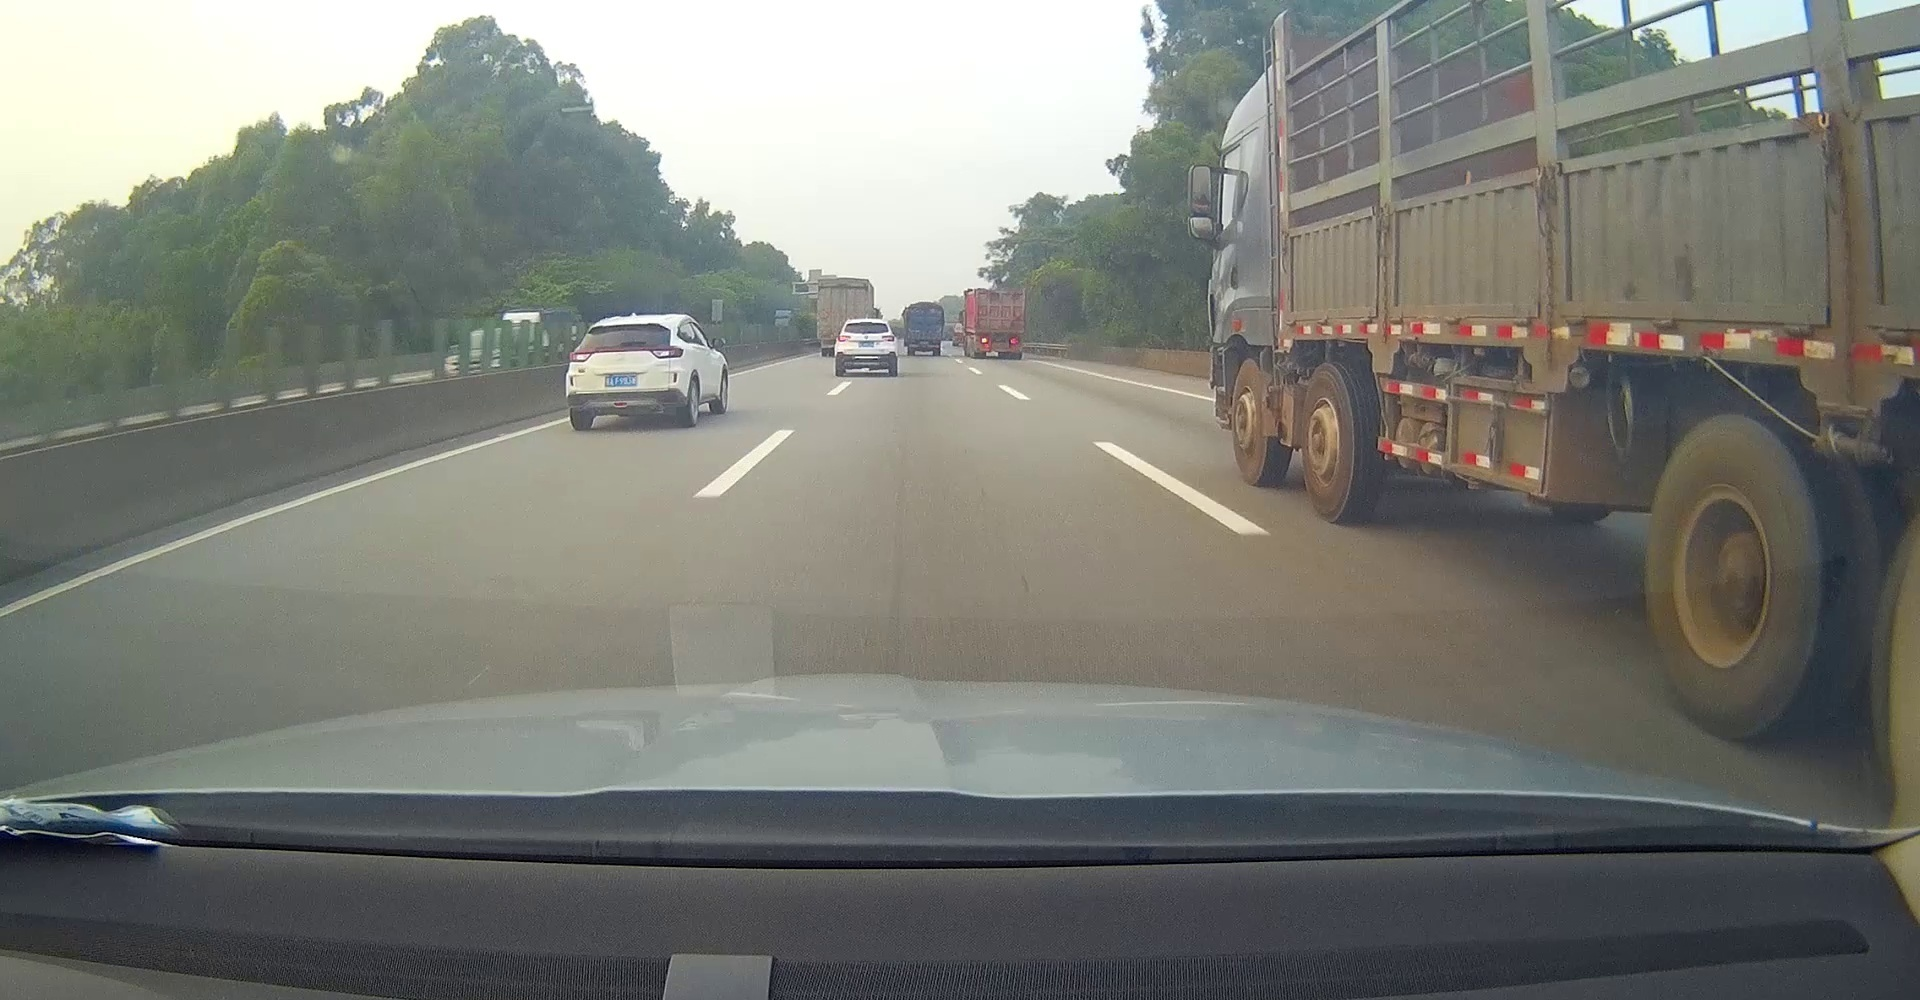L_light: (569, 350, 596, 362), (837, 335, 851, 341), (979, 338, 990, 343), (908, 344, 916, 346)
R_light: (649, 346, 684, 358), (883, 335, 895, 341), (1010, 338, 1018, 344), (933, 344, 938, 346)
T_light: (615, 325, 636, 329), (860, 322, 872, 326), (996, 293, 1004, 296), (919, 308, 928, 310)
day-brake: (974, 288, 1023, 359)
day-no: (565, 315, 686, 430), (834, 319, 898, 377), (904, 302, 943, 357)
